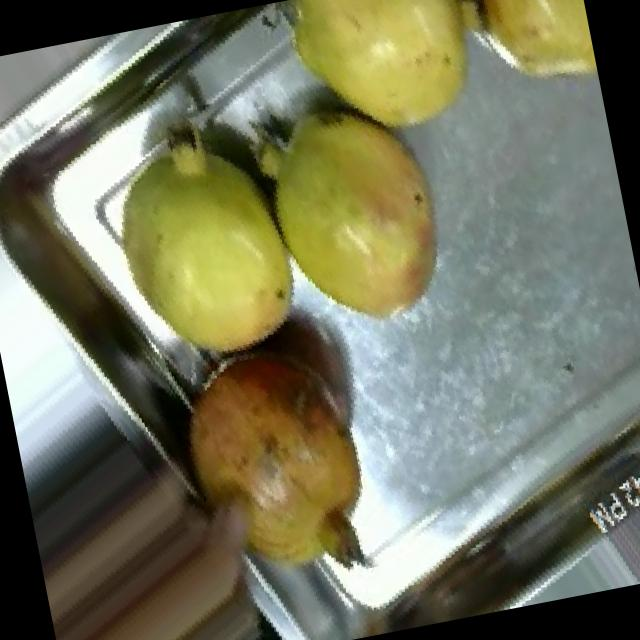fruit: (70, 94, 348, 400), (142, 297, 410, 585), (232, 68, 486, 362), (239, 0, 520, 180), (445, 0, 603, 124)
